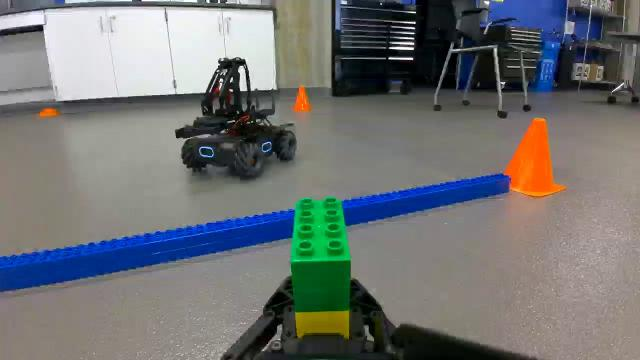robot: (172, 54, 302, 184)
